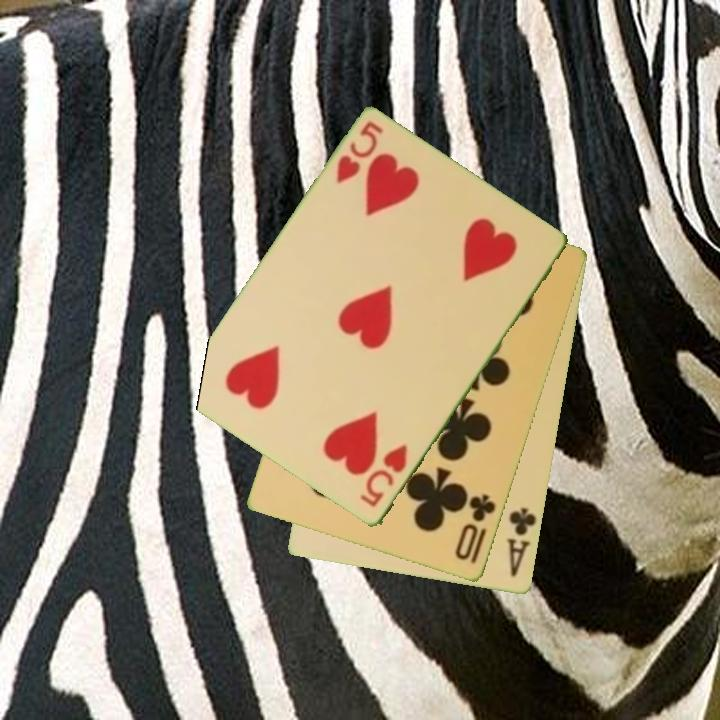10c: (452, 491, 499, 568)
5h: (356, 440, 411, 511), (333, 118, 387, 187)
Ac: (503, 504, 540, 581)
